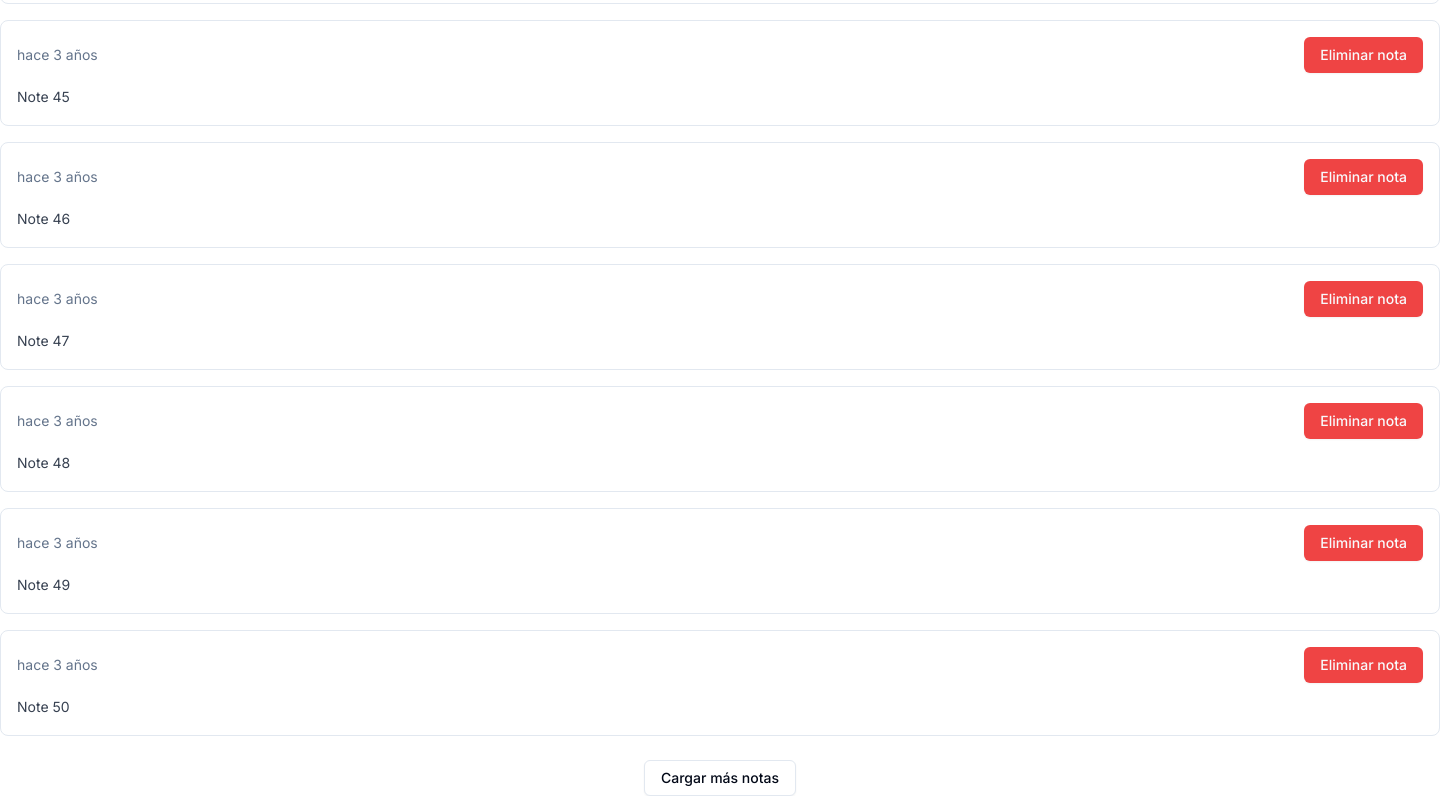
it: NotesList › carga más páginas hasta mostrar las 60 notas
(page scrolled)
Cargar más → 60 notas.
Click the button "Cargar más notas".
click(720, 778)  # box [644, 760, 796, 795]
(page scrolled)
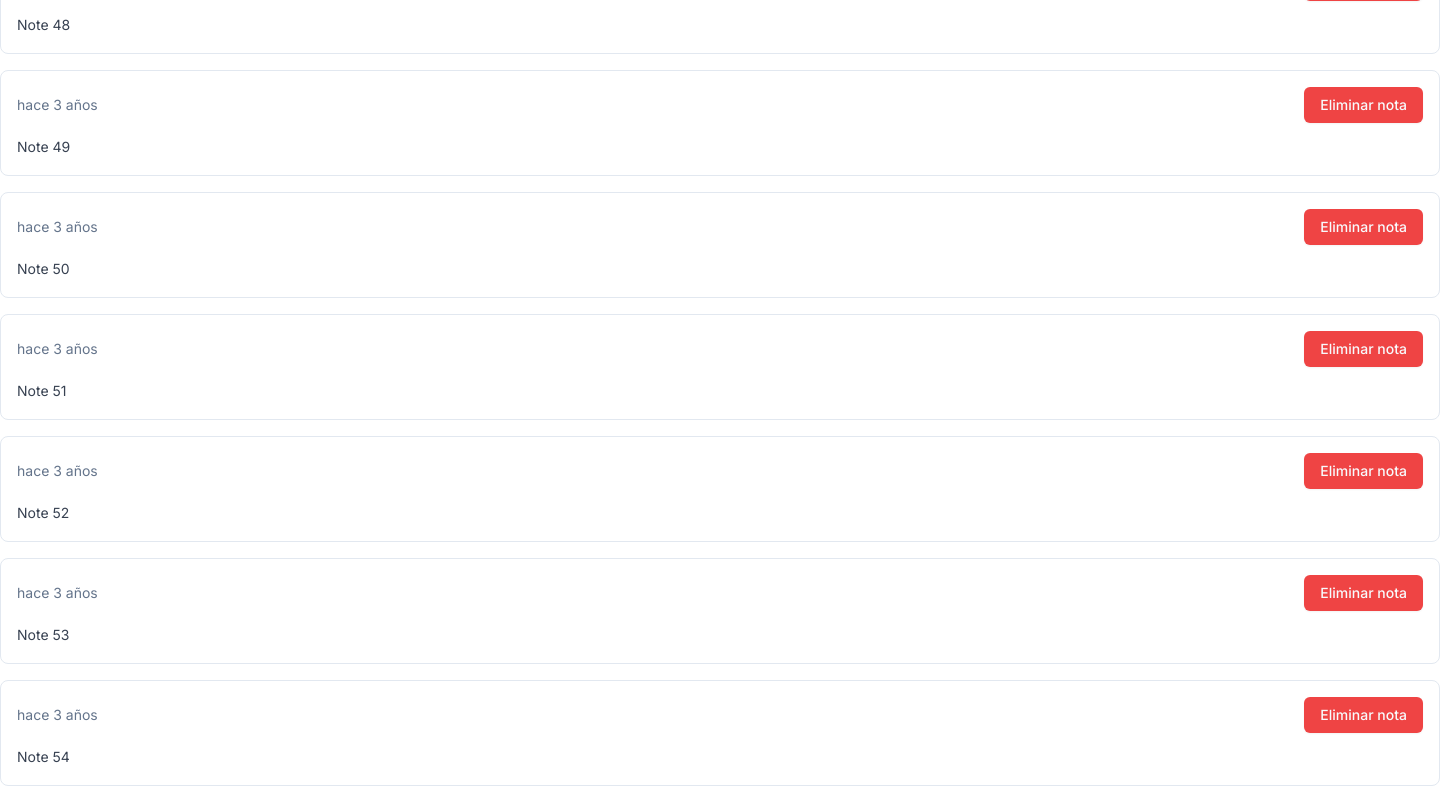
Result: the text "Note 51" is shown at [17, 382, 66, 399]
